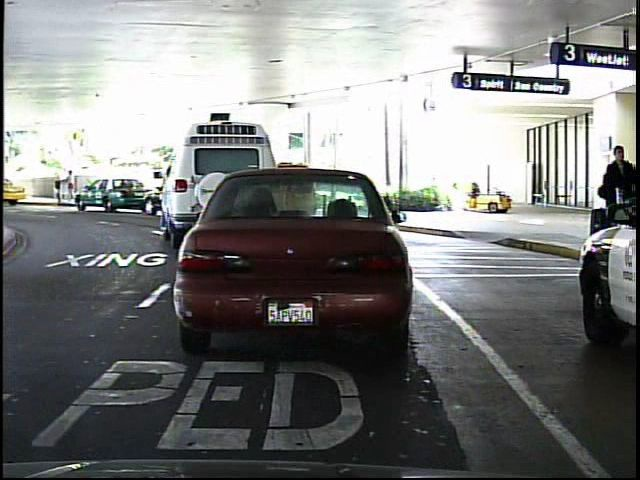person: (593, 140, 633, 254), (64, 165, 78, 203), (64, 162, 65, 201)
